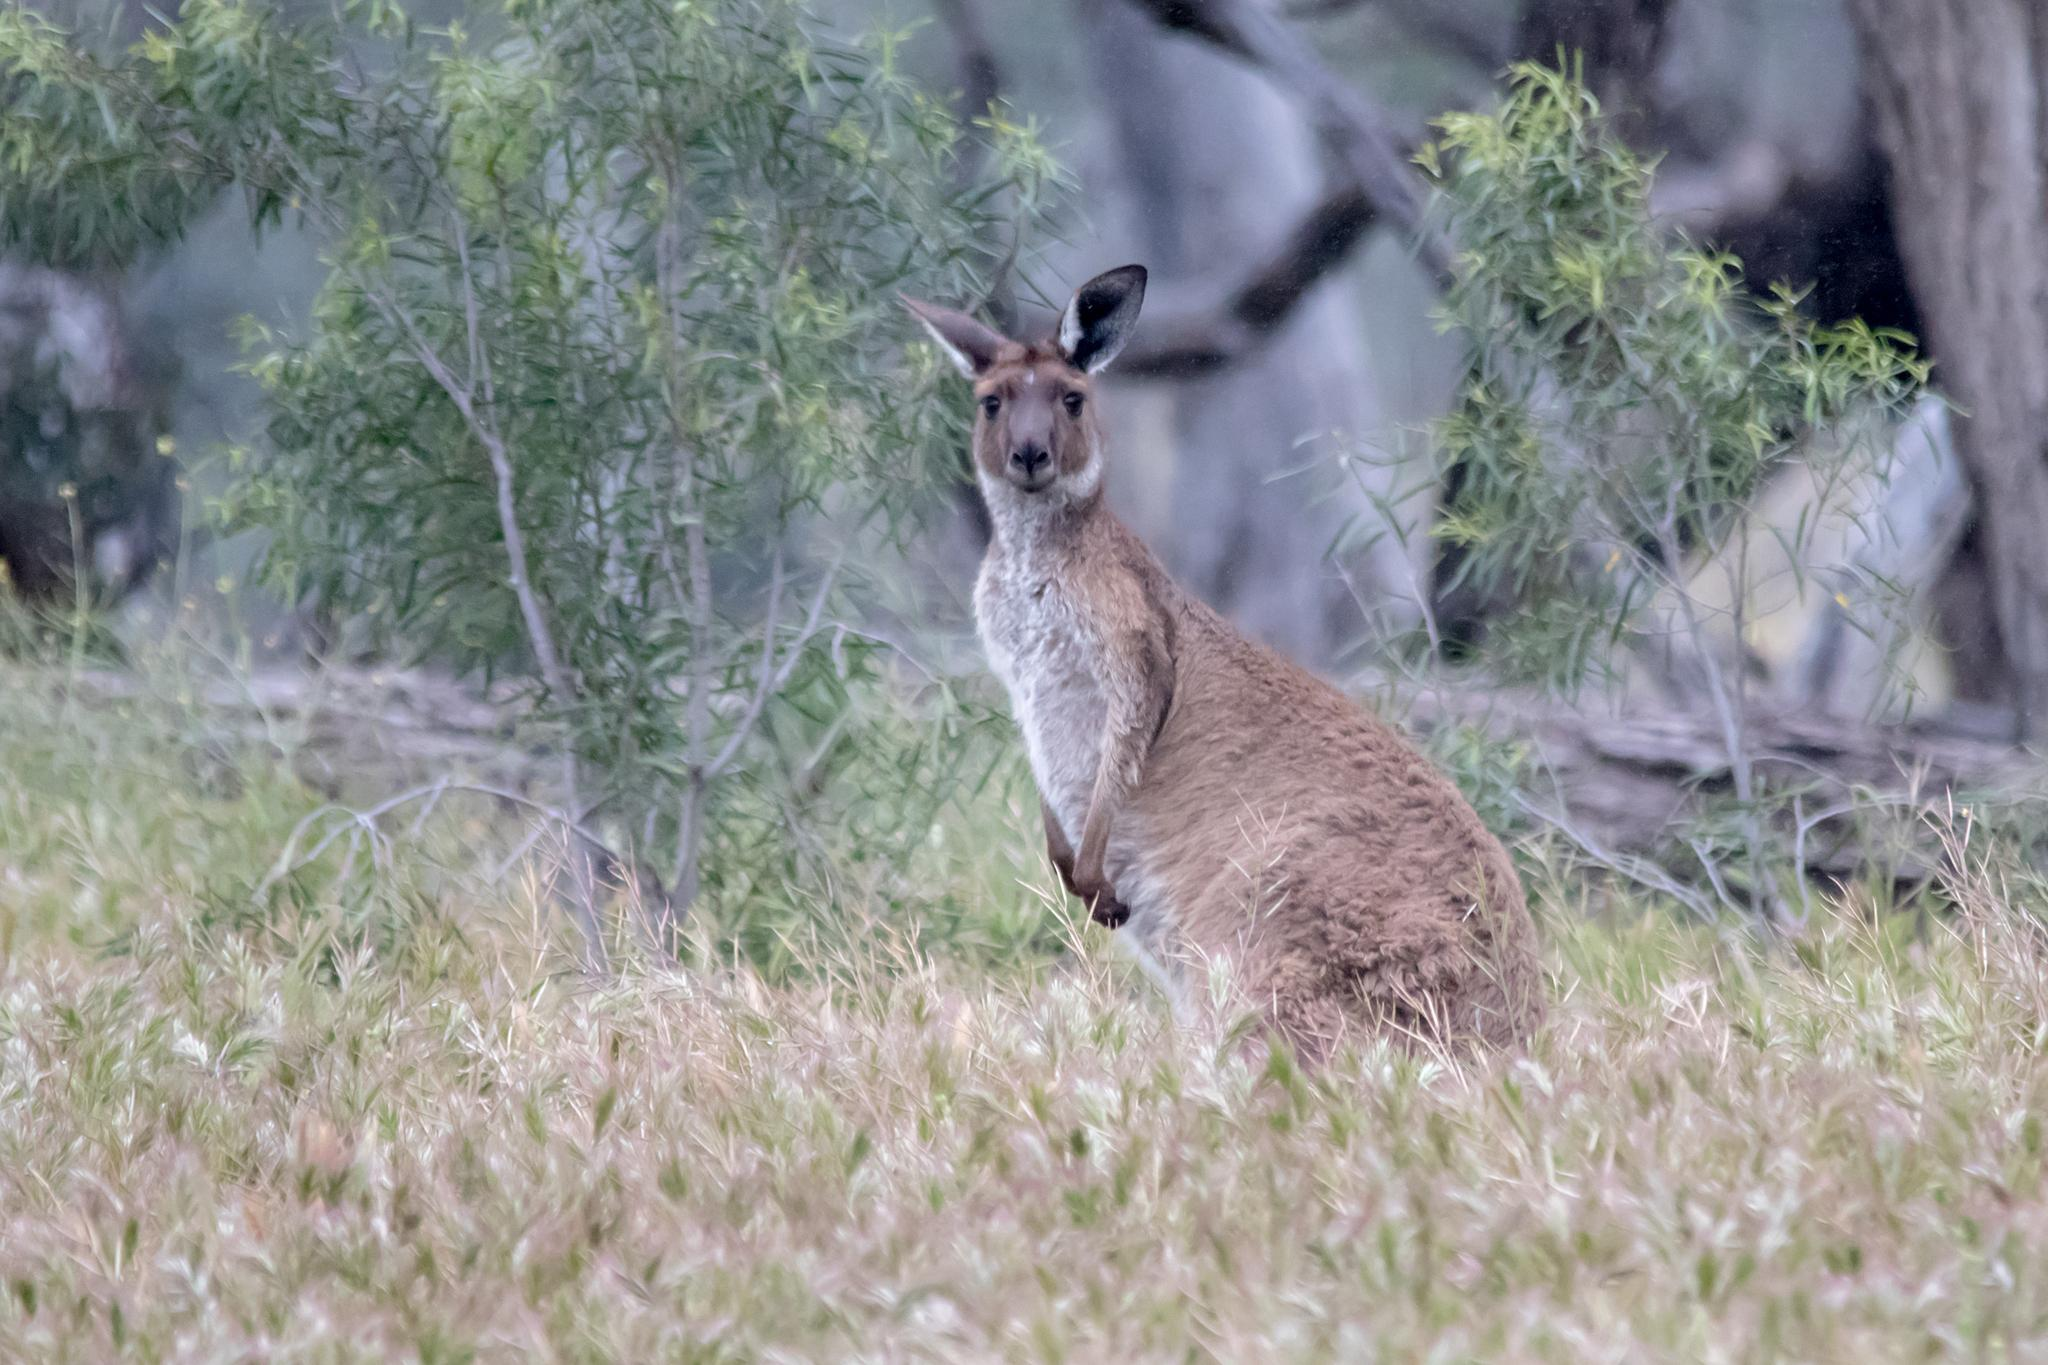Western grey kangaroo: (894, 264, 1581, 990)
